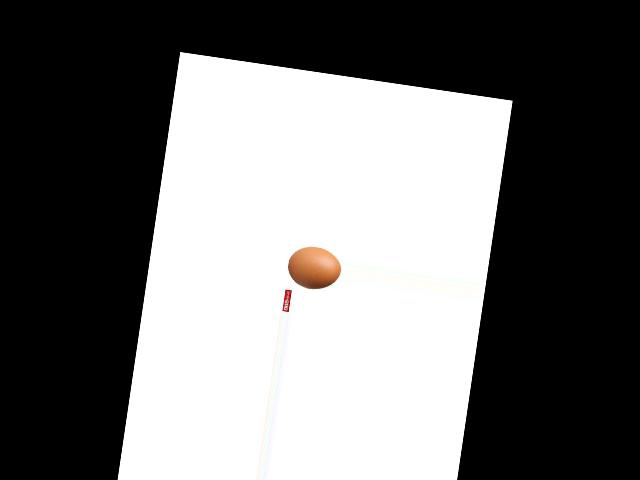egg: (285, 243, 342, 292)
